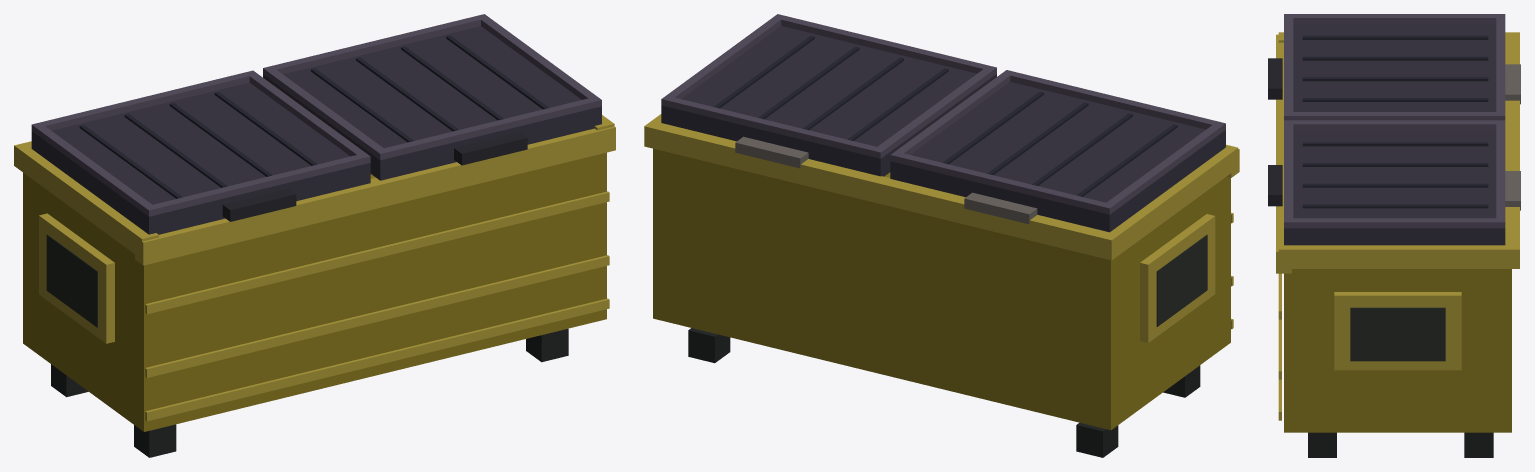
The model's file is CMU3DYellowDumpster.glb.
3 views of the same model, side by side, from view 1: azimuth 30°, elevation 25°; view 2: azimuth 150°, elevation 25°; view 3: azimuth 270°, elevation 25° (orthographic). The views are drawn at different scales.
Parts seen in each view (by area): view 1: lower bin shell, dark closed lid (×2), front strengthening rib (×3), front rolled rim, lid end border (×4), lid side border (×4), lid recessed rib (×8), side lift socket, bin side rim, socket dark recess, lid front handle (×2), caster wheel (×3); view 2: lower bin shell, dark closed lid (×2), rear top lip, lid end border (×4), lid side border (×4), lid recessed rib (×8), side lift socket, bin side rim, caster wheel (×3), socket dark recess, rear hinge (×2); view 3: dark closed lid (×2), lower bin shell, lid side border (×4), lid recessed rib (×8), bin side rim, socket dark recess, side lift socket, lid end border (×4), rear top lip, caster wheel (×2), front rolled rim, lid front handle (×2) (+1 smaller).
Part boxes in pixels (box(x1,y1,x2,y2)): lower bin shell: box(23, 152, 606, 431); dark closed lid (×2): box(31, 26, 601, 234); front strengthening rib (×3): box(145, 191, 609, 421); front rolled rim: box(135, 126, 615, 265); lid end border (×4): box(40, 16, 593, 214); lid side border (×4): box(31, 14, 601, 216); lid recessed rib (×8): box(79, 35, 548, 198); side lift socket: box(39, 213, 114, 343); bin side rim: box(21, 149, 158, 258); socket dark recess: box(46, 234, 97, 327); lid front handle (×2): box(222, 132, 527, 221); caster wheel (×3): box(51, 329, 568, 457); lower bin shell: box(653, 148, 1230, 430); dark closed lid (×2): box(661, 26, 1225, 232); rear top lip: box(644, 120, 1119, 260); lid end border (×4): box(670, 16, 1216, 212); lid side border (×4): box(661, 14, 1225, 214); lid recessed rib (×8): box(714, 35, 1177, 196); side lift socket: box(1140, 214, 1215, 342); bin side rim: box(1102, 144, 1238, 254); caster wheel (×3): box(688, 328, 1200, 457); socket dark recess: box(1156, 234, 1207, 326); rear hinge (×2): box(735, 136, 1037, 224); dark closed lid (×2): box(1284, 24, 1505, 245); lower bin shell: box(1284, 269, 1511, 432); lid side border (×4): box(1284, 14, 1505, 228); lid recessed rib (×8): box(1302, 35, 1488, 208); bin side rim: box(1278, 242, 1506, 268); socket dark recess: box(1350, 307, 1445, 361); side lift socket: box(1334, 292, 1461, 370); lid end border (×4): box(1284, 18, 1505, 218); rear top lip: box(1504, 32, 1519, 268); caster wheel (×2): box(1308, 432, 1493, 457); front rolled rim: box(1276, 34, 1291, 273); lid front handle (×2): box(1268, 58, 1282, 206).
Size of the model in its own units: 2 by 1.02 by 0.953.
